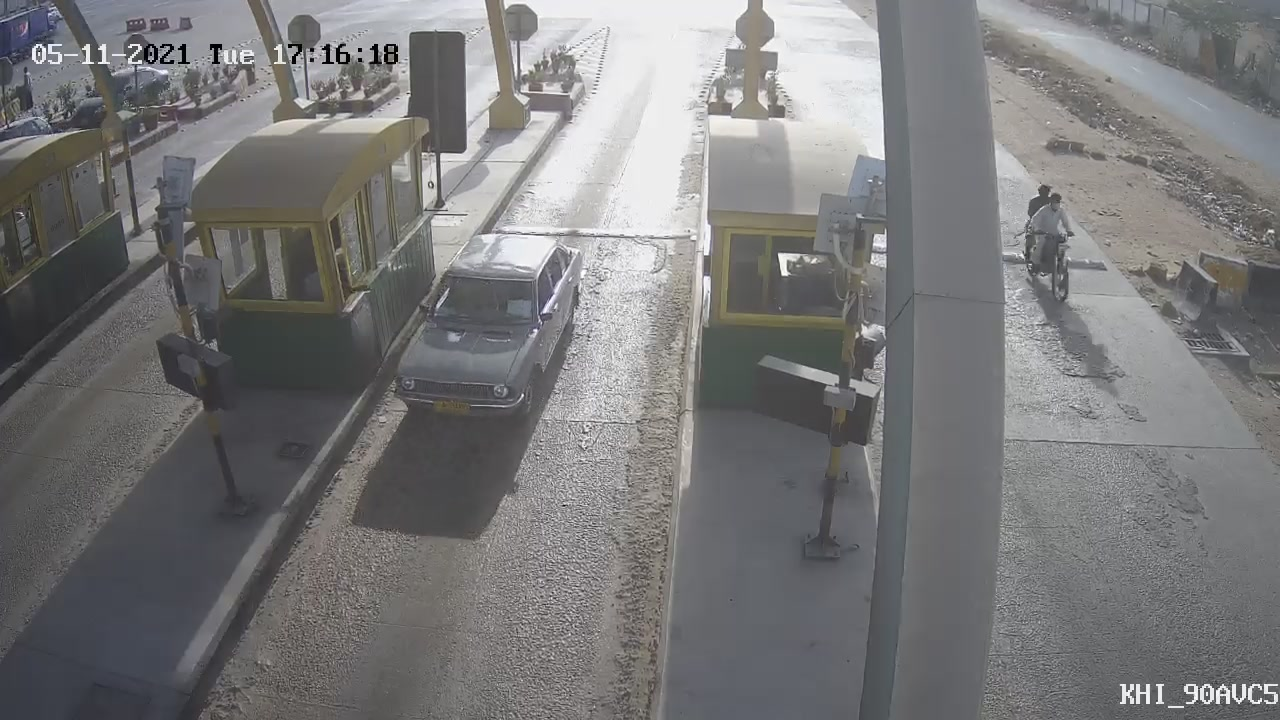F1: (365, 213, 600, 435)
